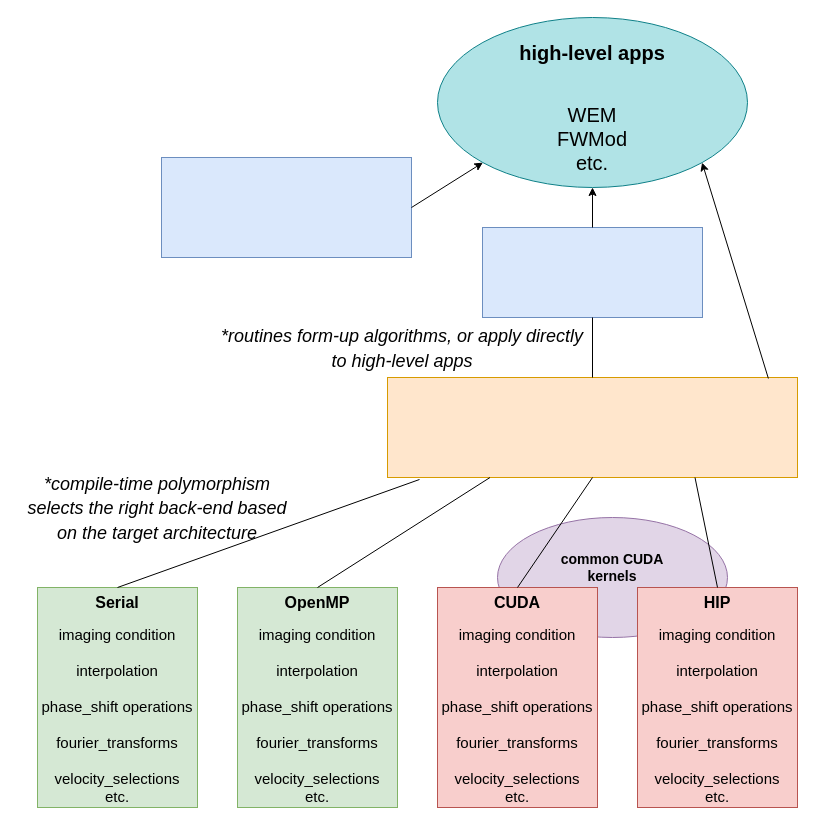
The diagram is 815 pixels wide and 825 high, and some of its shapes have lost their labels. The centre of each missing label's shape, as x and y in pixels:
"abstract algorithms" belongs at (592,272).
"architecture-agnostic routines" belongs at (592,427).
"SEG-Y & npy I/O, and basic pre-processing utils" belongs at (286,207).
